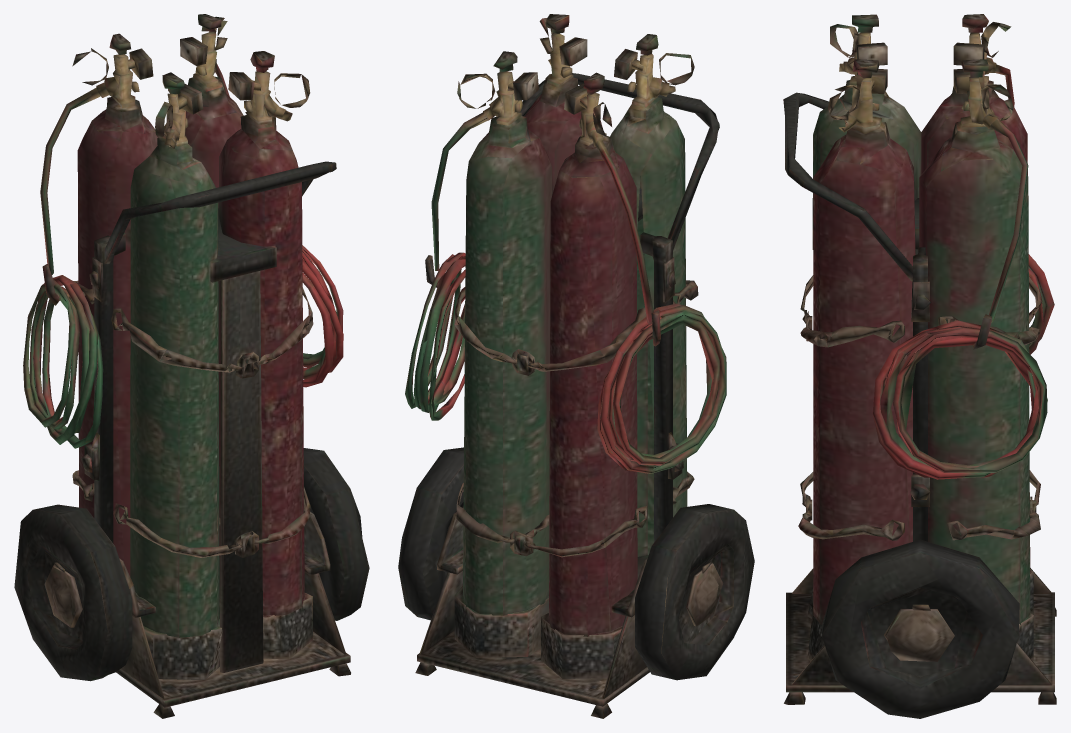
File: p7-gas-cylinder-cart-t25.glb
The picture shows the model from 3 angles, left to right: view 1: azimuth 30°, elevation 25°; view 2: azimuth 150°, elevation 25°; view 3: azimuth 270°, elevation 25°; orthographic projection. The views are drawn at different scales.
Parts seen in each view (by area): view 1: p7-gas-cylinder-cart-t25; view 2: p7-gas-cylinder-cart-t25; view 3: p7-gas-cylinder-cart-t25.
Boxes of the visible parts, left/top/right/bottom form: p7-gas-cylinder-cart-t25: left=14, top=14, right=369, bottom=718; p7-gas-cylinder-cart-t25: left=398, top=14, right=754, bottom=718; p7-gas-cylinder-cart-t25: left=783, top=14, right=1056, bottom=718.
Size of the model in its own units: 0.734 by 1.5 by 0.6.
Materials: 1 (1 with a texture image).
